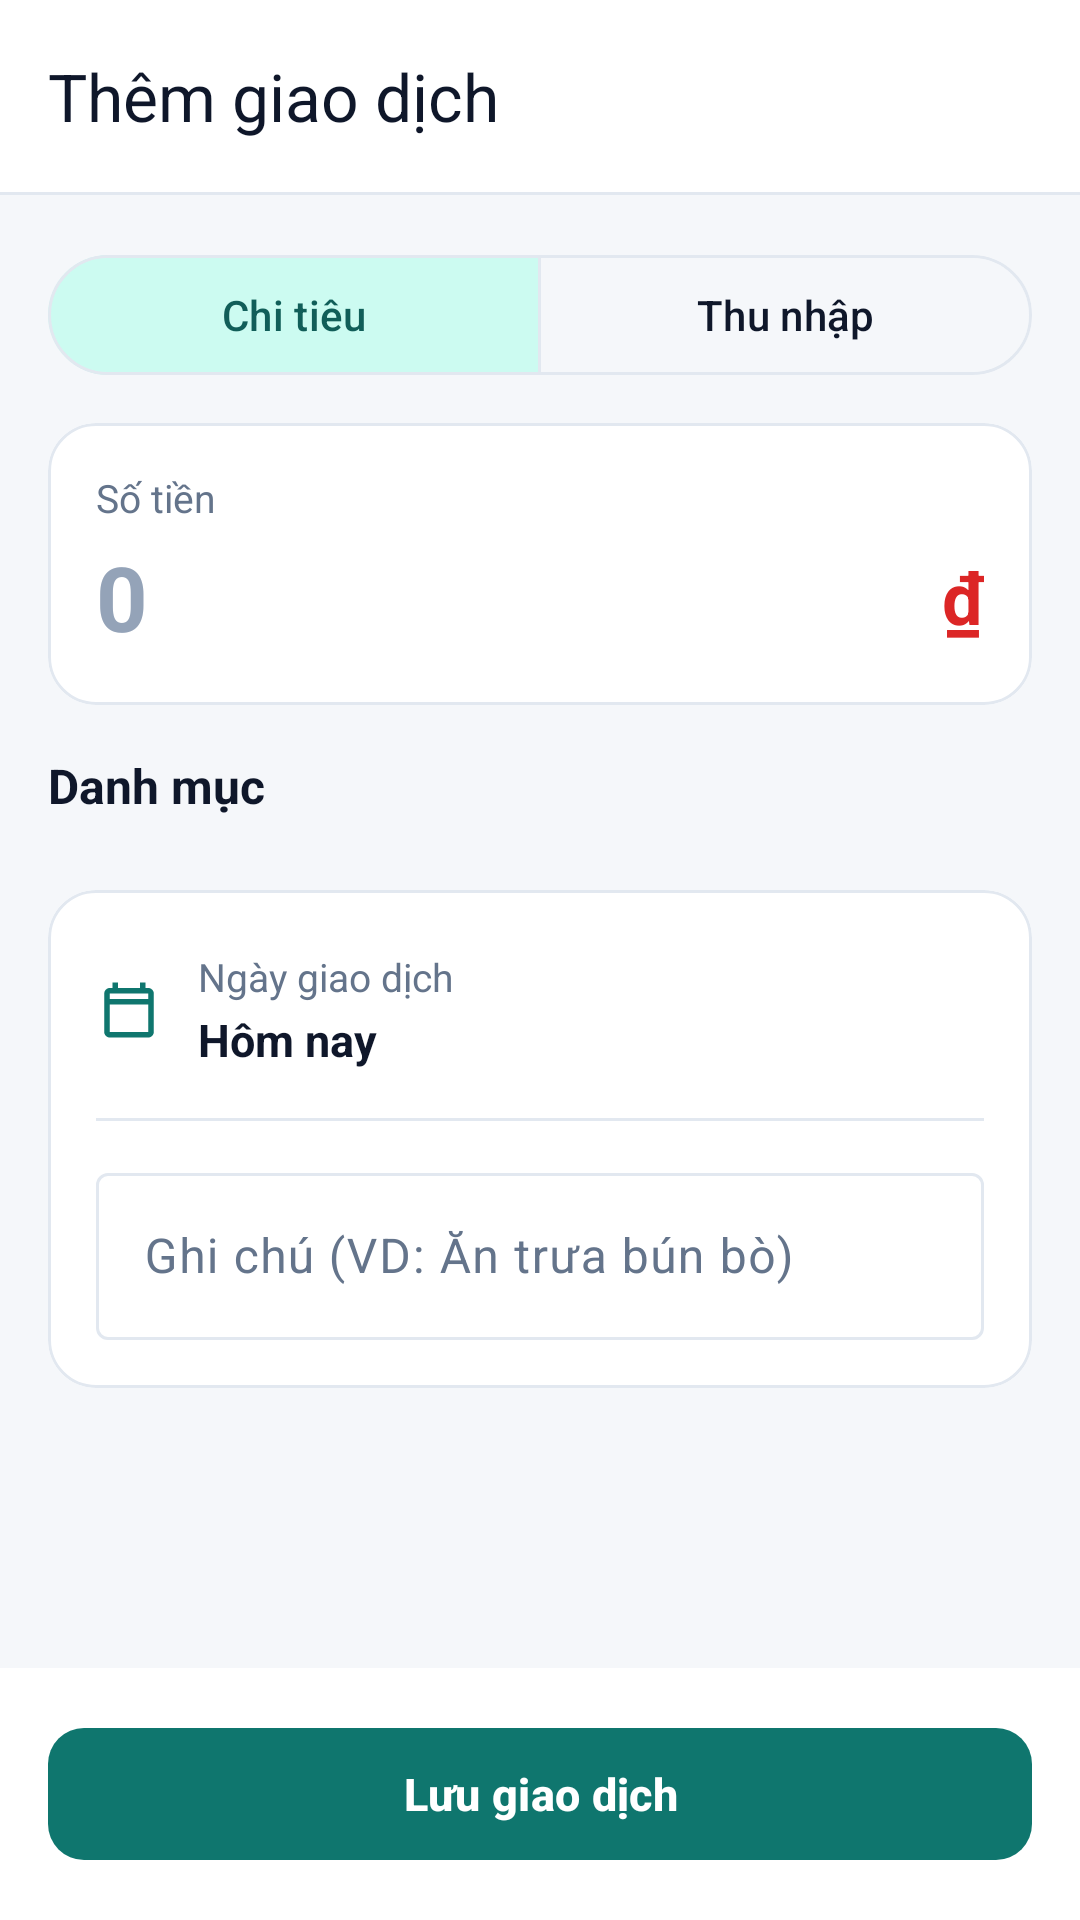

Icons on this 1080px×1920px Android screen, each with its box as box(x1, y1, x2, y2):
calendar: box(104, 982, 154, 1038)
